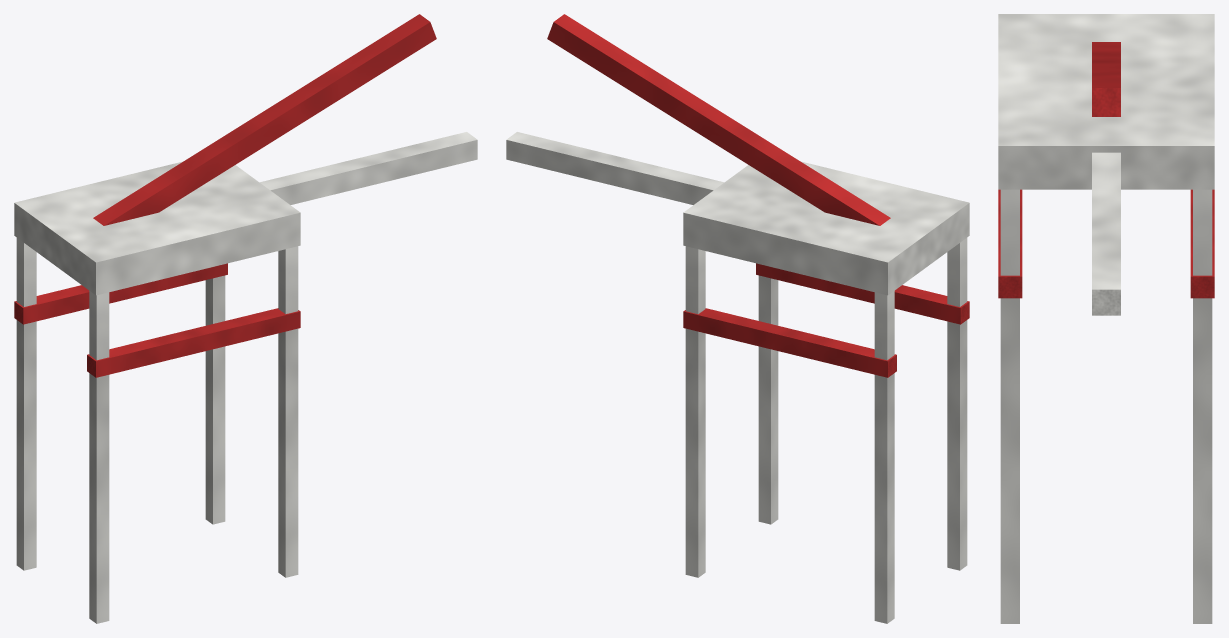
File: SM_MoloItalia_GruPortuale_LOD2.fbx
3 views of the same model, side by side, from view 1: azimuth 30°, elevation 25°; view 2: azimuth 150°, elevation 25°; view 3: azimuth 270°, elevation 25° (orthographic). The views are drawn at different scales.
Visible parts, largest first — view 1: SM_MoloItalia_GruPortuale_LOD2; view 2: SM_MoloItalia_GruPortuale_LOD2; view 3: SM_MoloItalia_GruPortuale_LOD2.
Boxes of the visible parts, <box> form: SM_MoloItalia_GruPortuale_LOD2: <box>14,14,477,623</box>; SM_MoloItalia_GruPortuale_LOD2: <box>506,14,969,623</box>; SM_MoloItalia_GruPortuale_LOD2: <box>998,14,1214,623</box>.
Bounding box in the file's own units: 5300 × 1800 × 5910.
Materials: 1 (1 with a texture image).
